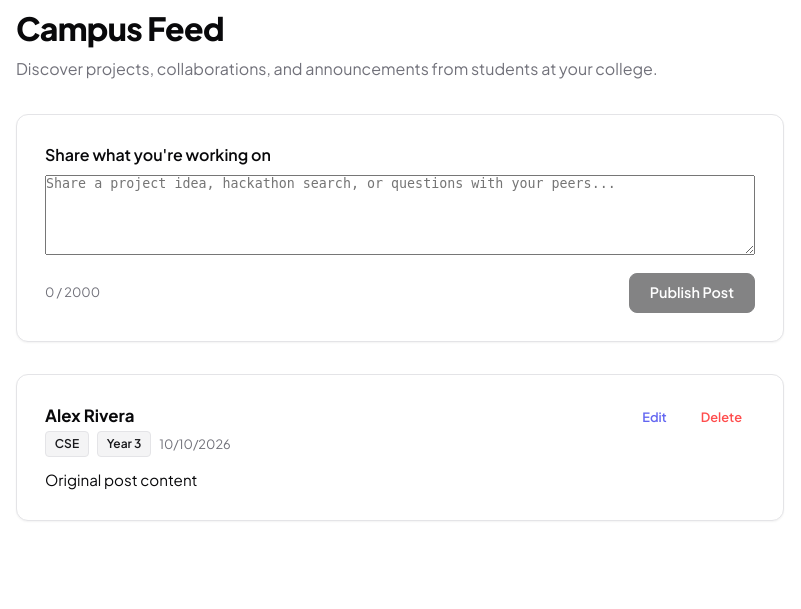
Test: Phases 4 & 5 Frontend Integration Tests › FeedPage Component › allows author to edit their own post
Expected: the text "Original post content" is shown, x1=45 y1=470 x2=198 y2=489
Click the button titled "Edit your post" at [654, 418], box x1=629 y1=403 x2=680 y2=433
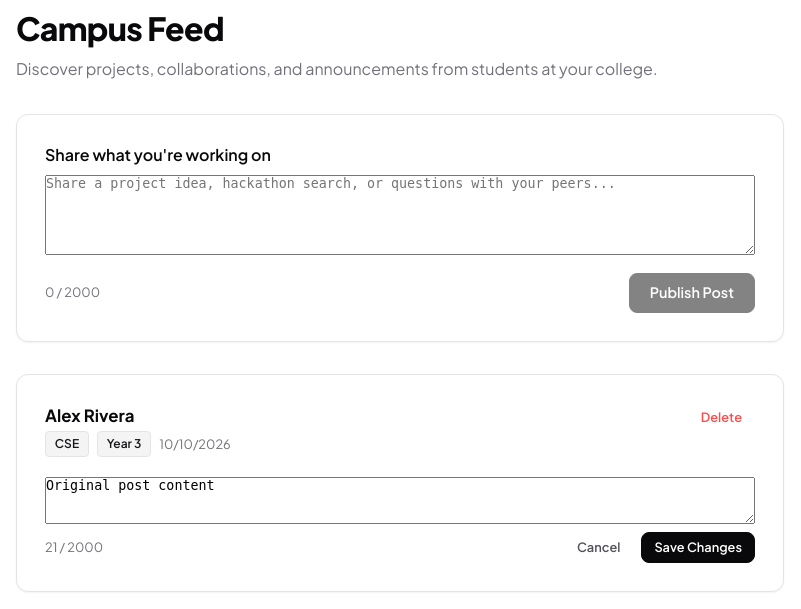
Replace the text in the text box showing "Original post content" with "Updated post content" at [400, 501], box x1=45 y1=477 x2=755 y2=524
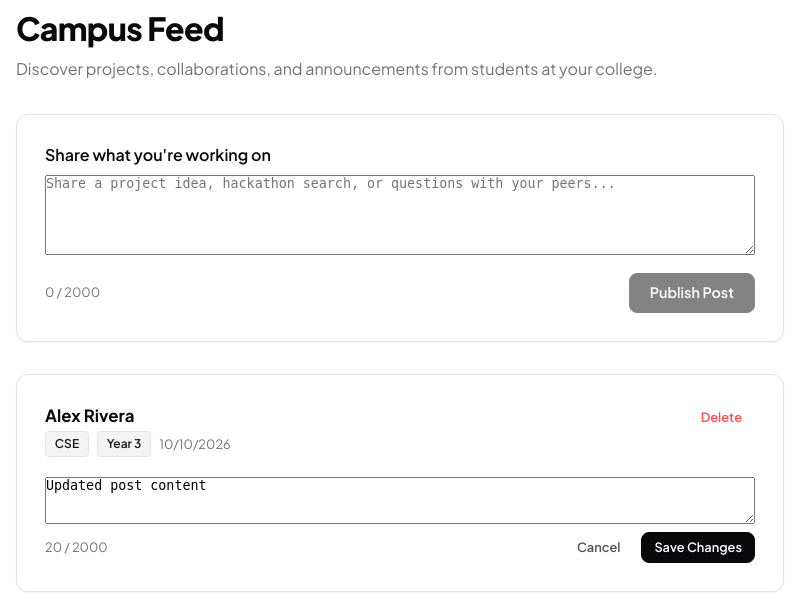
Click the button "Save Changes" at [698, 547], box x1=642 y1=532 x2=755 y2=562
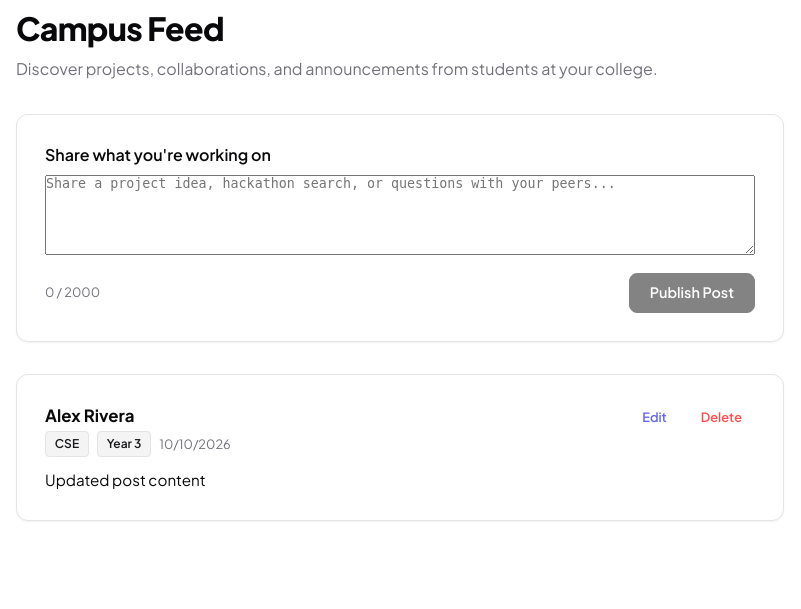
Expected: the text "Updated post content" is shown, x1=45 y1=470 x2=206 y2=489
